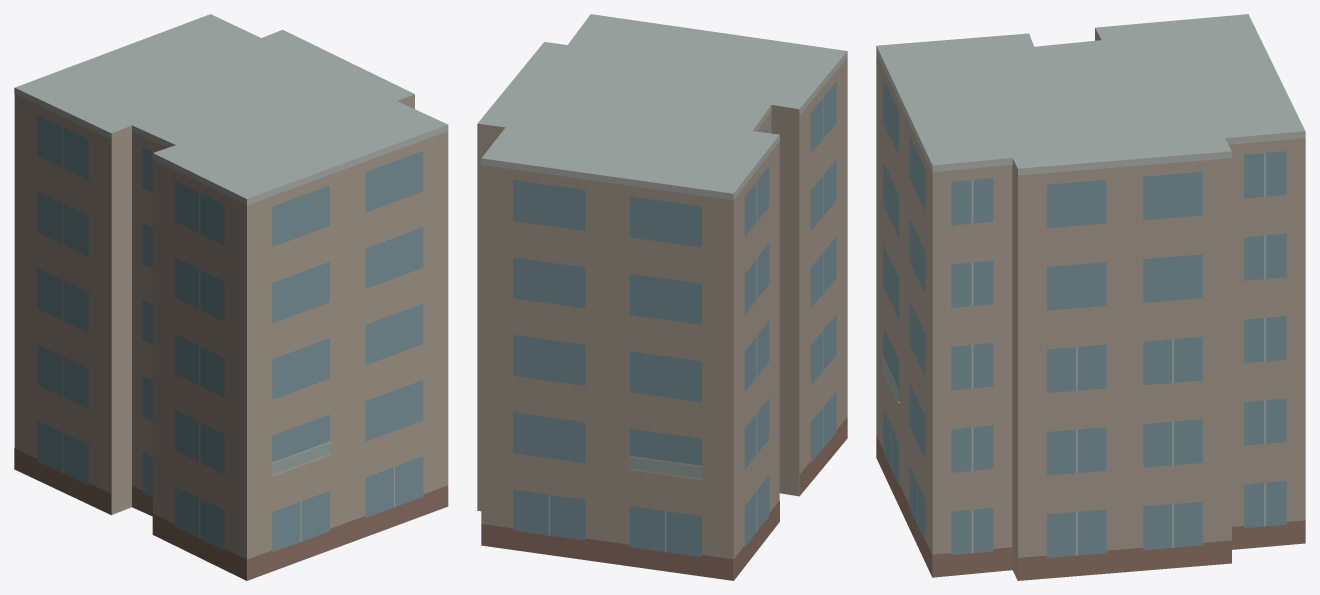
Rendered from survey-upis-32699337.glb.
3 views of the same model, side by side, from view 1: azimuth 30°, elevation 25°; view 2: azimuth 150°, elevation 25°; view 3: azimuth 270°, elevation 25° (orthographic). The views are drawn at different scales.
Visible parts, largest first — view 1: survey-upis-32699337.tmp; view 2: survey-upis-32699337.tmp; view 3: survey-upis-32699337.tmp.
Boxes of the visible parts, bbox=[...] form: survey-upis-32699337.tmp: bbox=[14, 14, 448, 580]; survey-upis-32699337.tmp: bbox=[477, 14, 847, 580]; survey-upis-32699337.tmp: bbox=[876, 14, 1305, 580].
Size of the model in its own units: 11.8 by 14.65 by 13.83.
